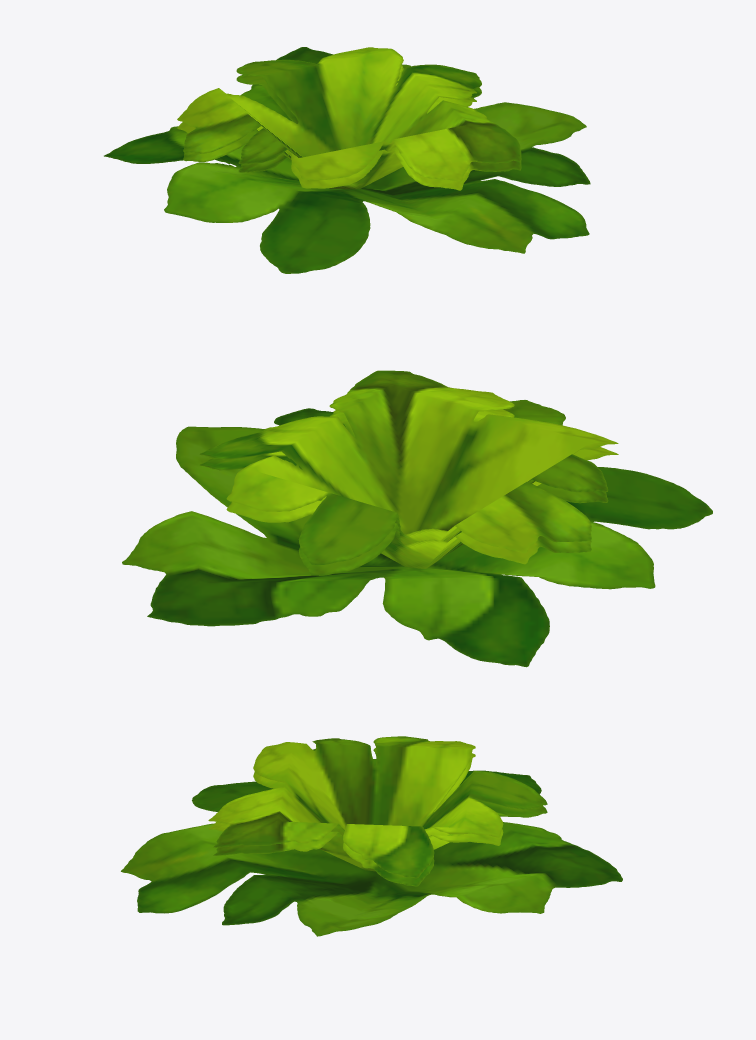
The model's file is sm_plant_03.FBX.
3 renders of one model, top to bottom at view 1: azimuth 30°, elevation 25°; view 2: azimuth 150°, elevation 25°; view 3: azimuth 270°, elevation 25°, orthographic. The views are drawn at different scales.
Parts seen in each view (by area): view 1: sm_plant_03; view 2: sm_plant_03; view 3: sm_plant_03.
Part boxes in pixels (x1,y1,x2,y2): sm_plant_03: (104, 47, 590, 273); sm_plant_03: (122, 370, 712, 667); sm_plant_03: (121, 736, 622, 936).
Size of the model in its own units: 150 by 150 by 20.78.
